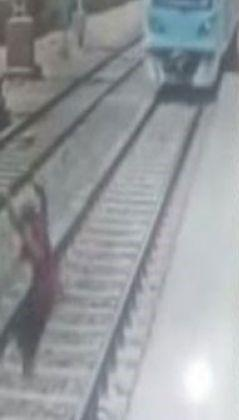person: (0, 165, 101, 374)
